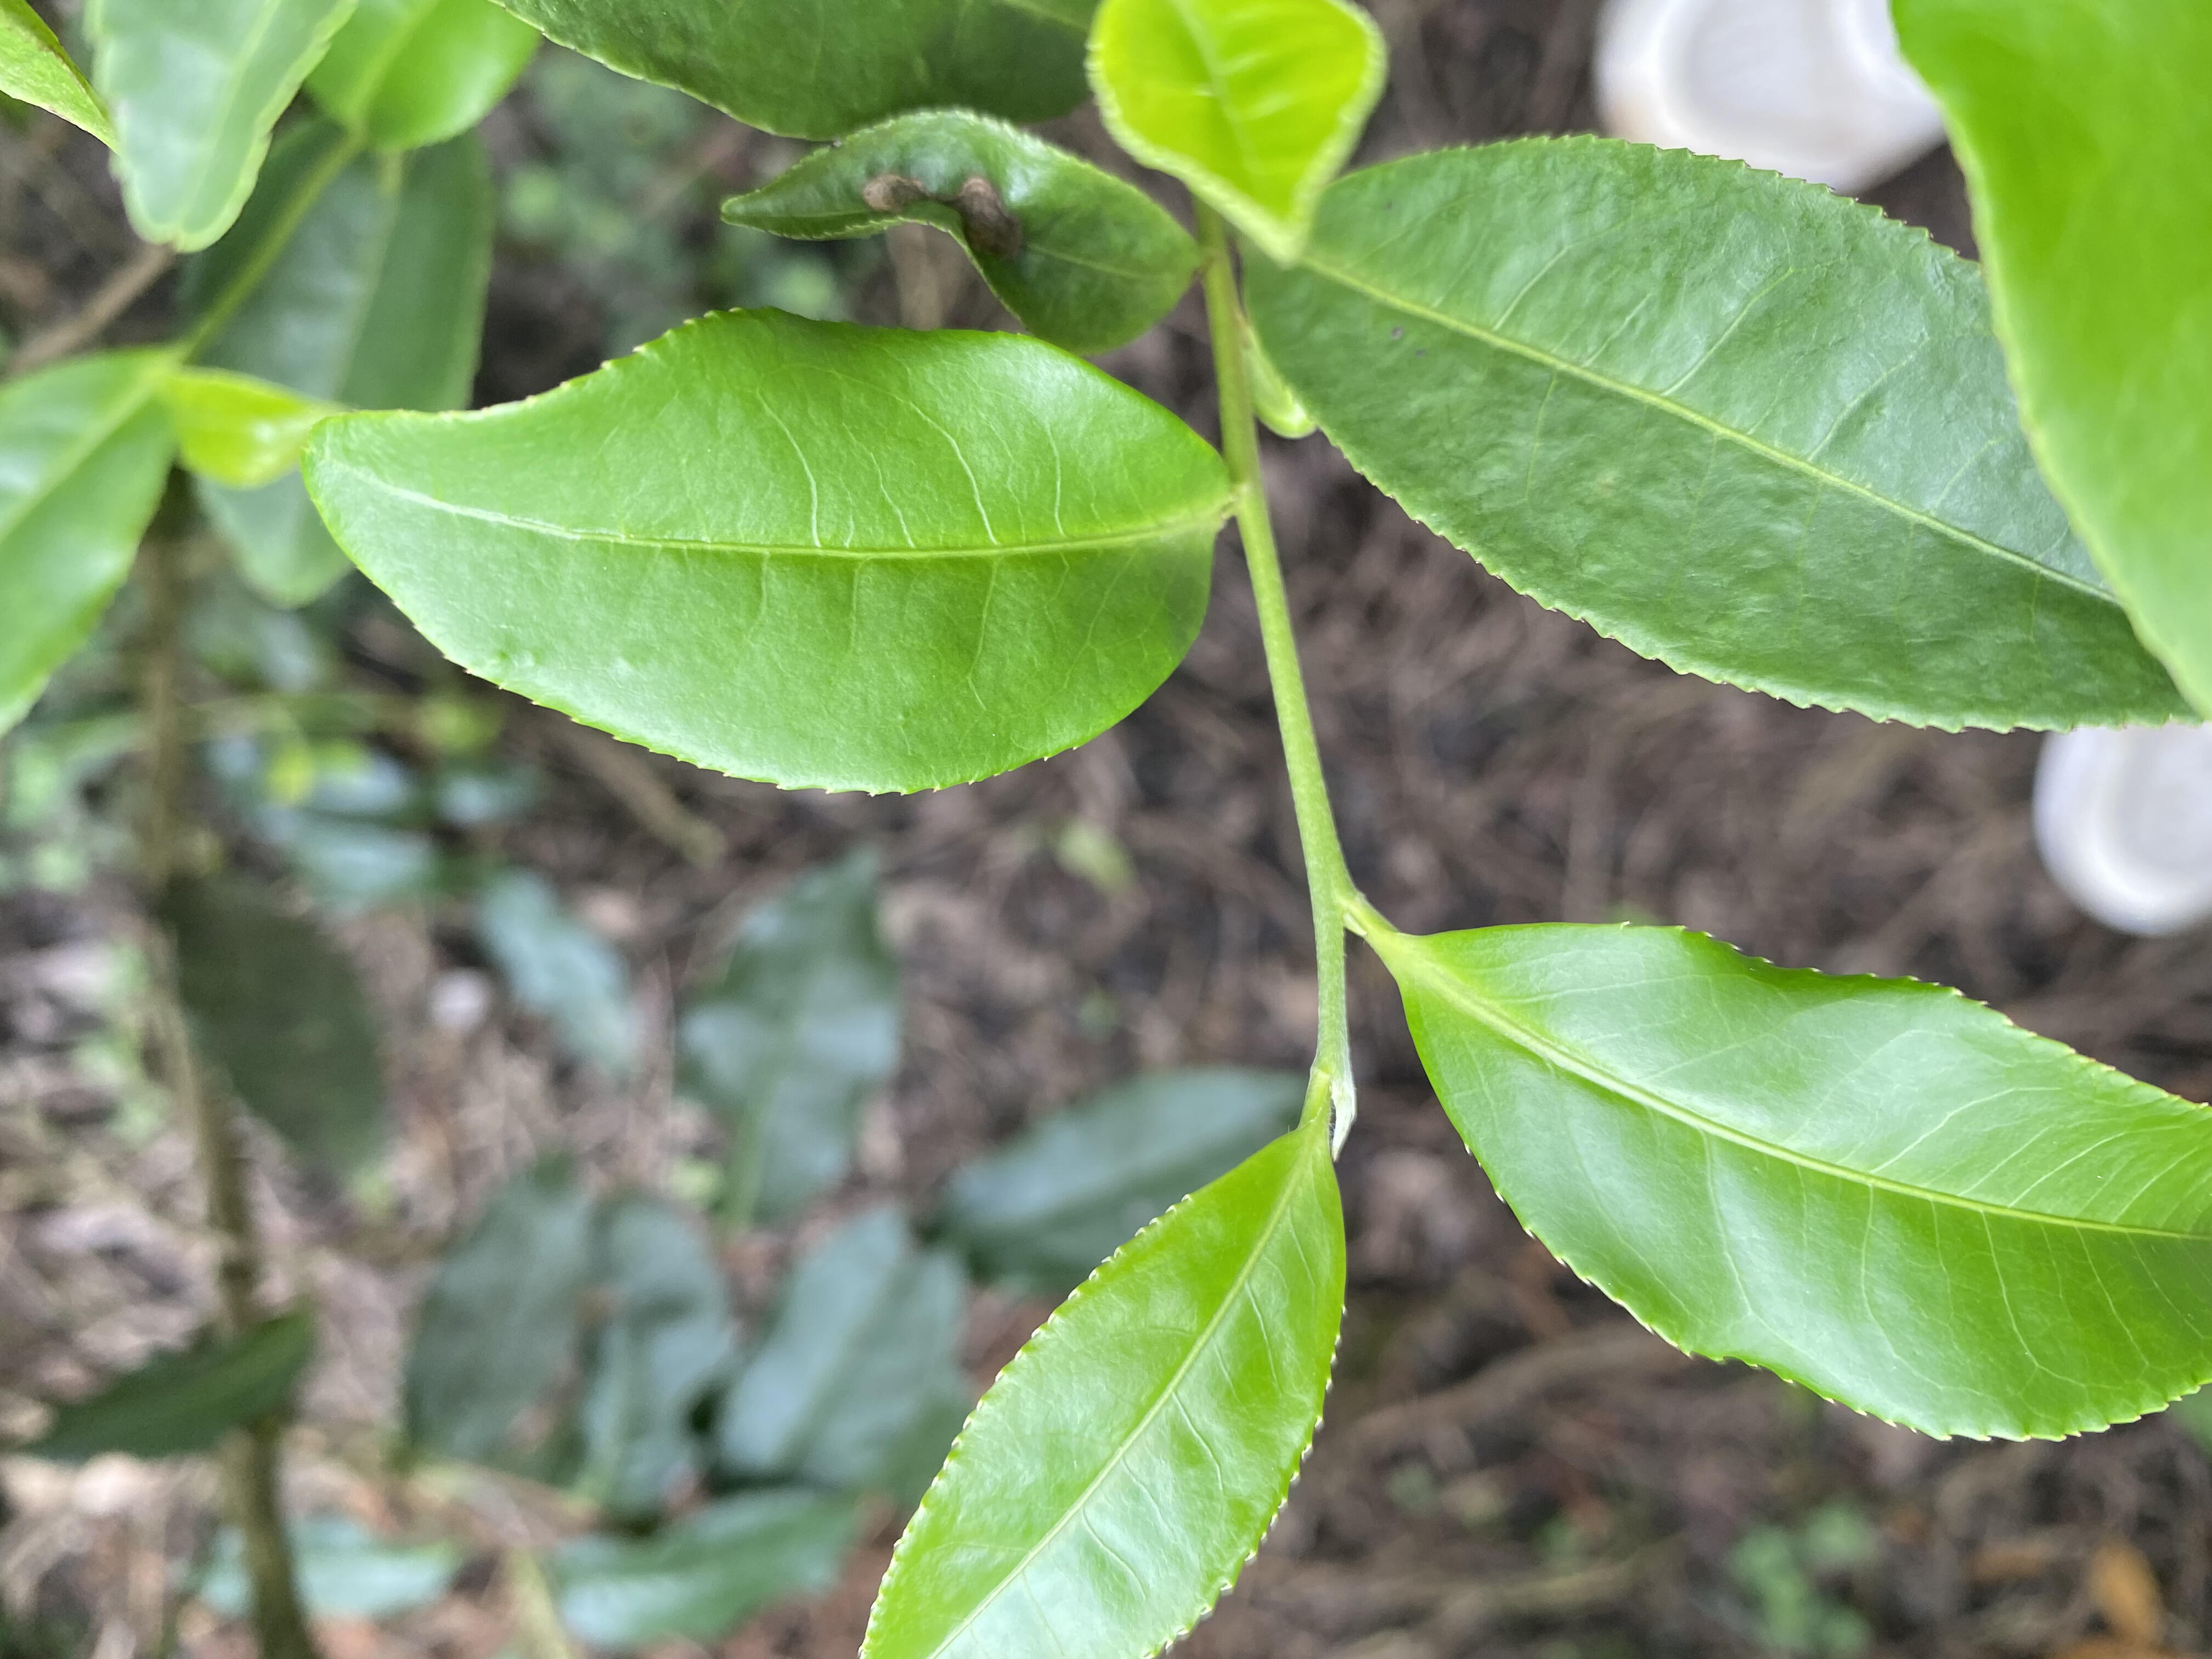healthy: (1254, 136, 2205, 739), (303, 301, 1237, 803), (1395, 918, 2207, 1453), (860, 1126, 1353, 1657)
tanju_high: (723, 106, 1202, 345)
